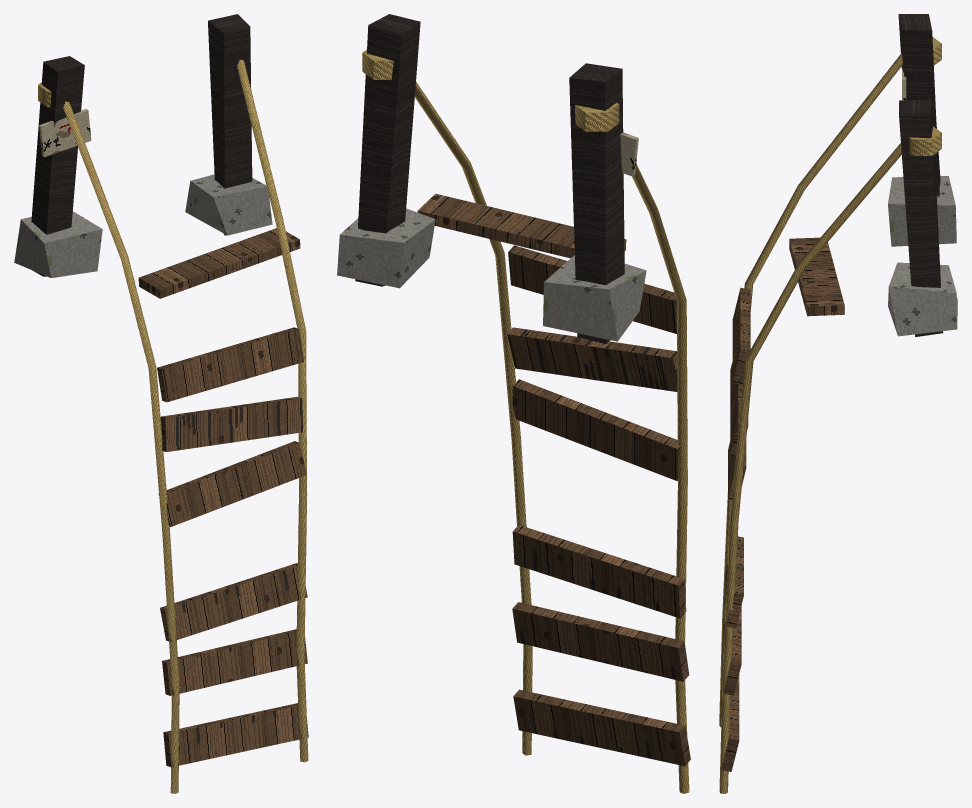
File: prop_bridge.glb
3 views of the same model, side by side, from view 1: azimuth 30°, elevation 25°; view 2: azimuth 150°, elevation 25°; view 3: azimuth 270°, elevation 25° (orthographic). The views are drawn at different scales.
Parts seen in each view (by area): view 1: prop_bridge; view 2: prop_bridge; view 3: prop_bridge.
Part boxes in pixels (<box>): prop_bridge: <box>14,14,308,793</box>; prop_bridge: <box>337,14,690,793</box>; prop_bridge: <box>719,14,957,793</box>.
Bounding box in the file's own units: 1.87 × 5.1 × 1.59.
Materials: 5 (5 with a texture image).
